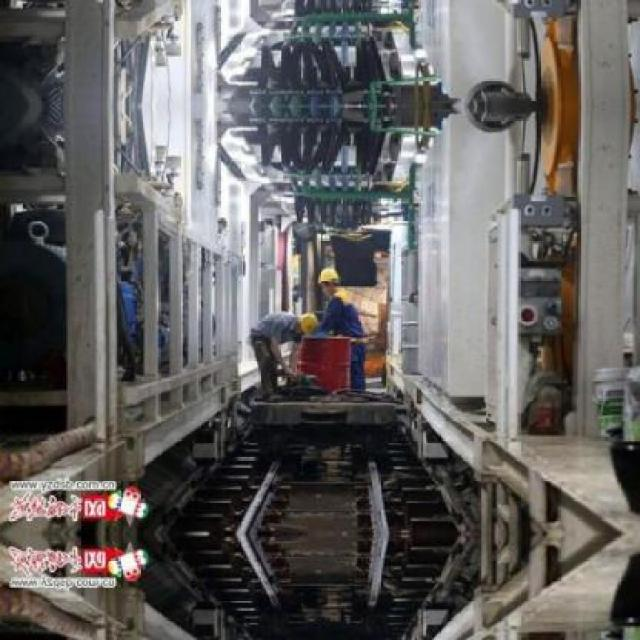helmet: (286, 308, 317, 335), (312, 265, 340, 292)
